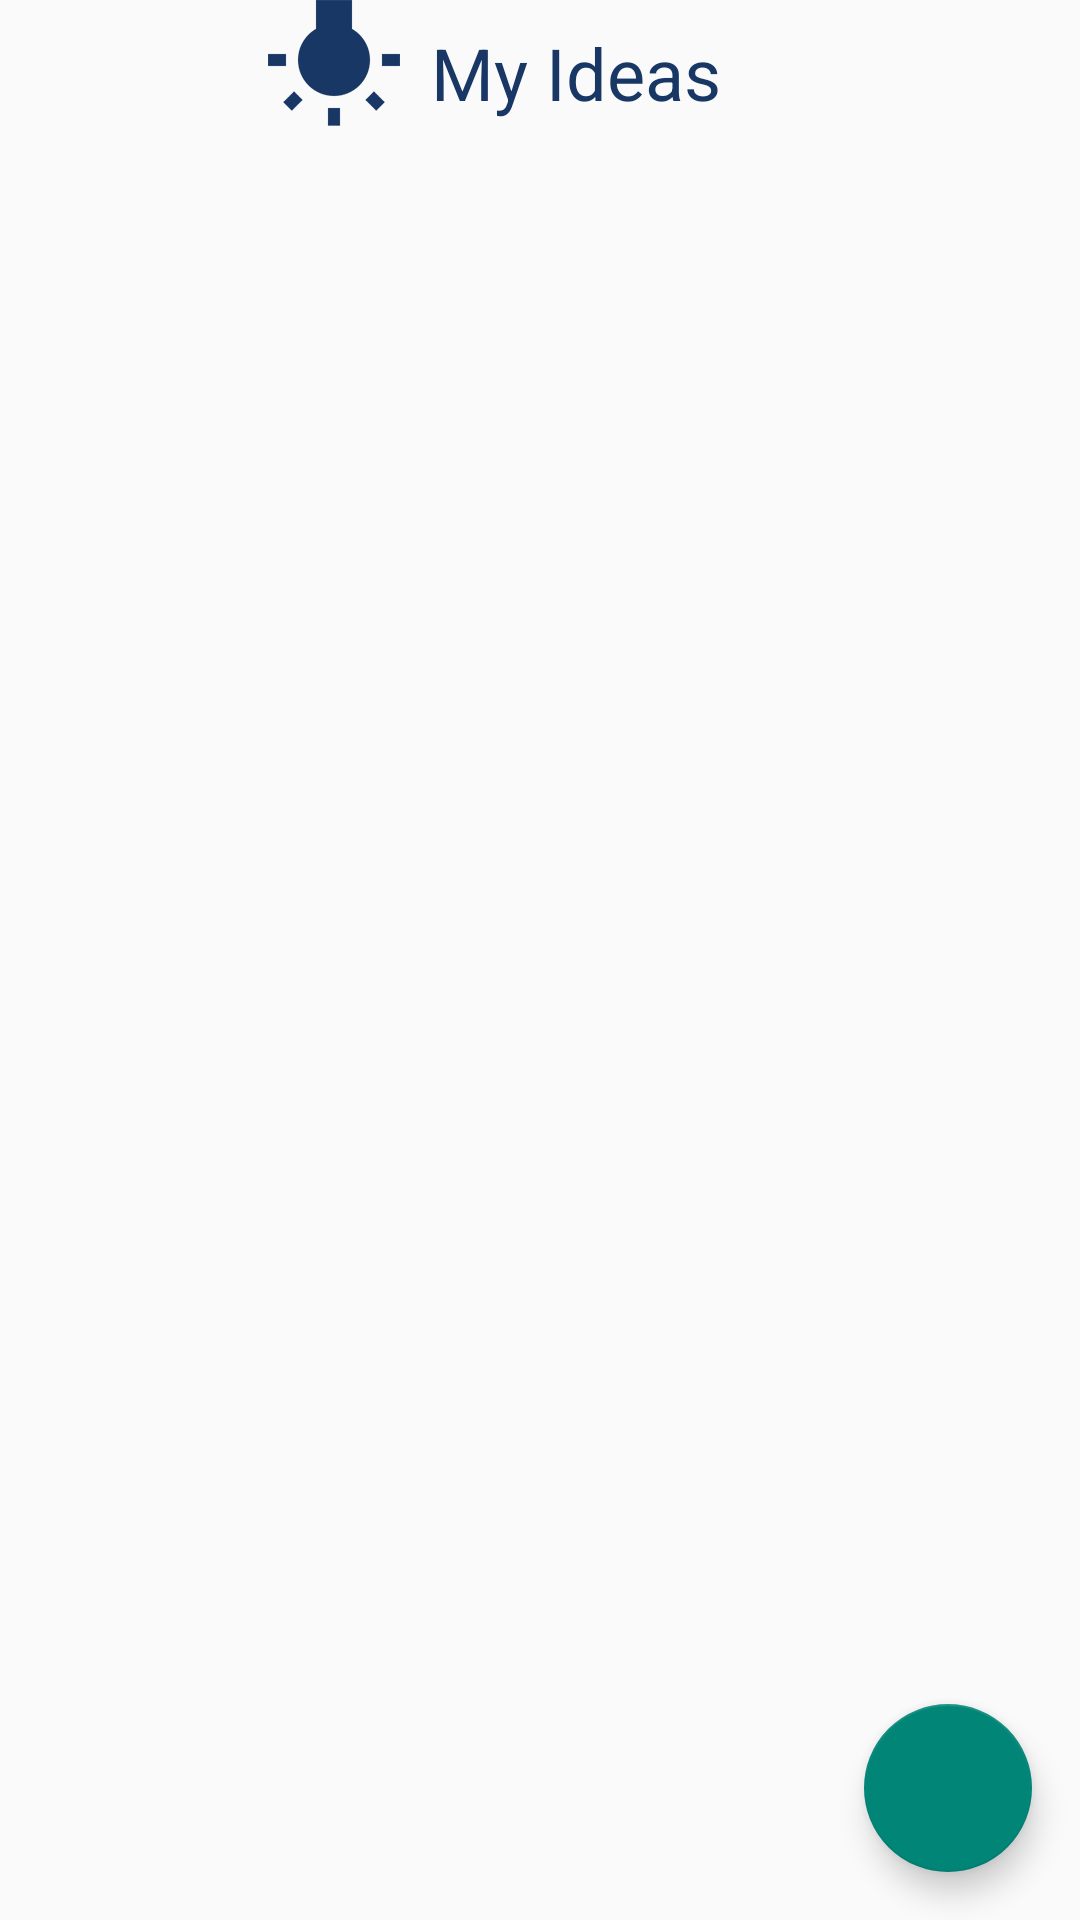

Icons on this 1080w x 1920h Android screen, each with the point to tap as (x,y):
incandescent: (334,63)
